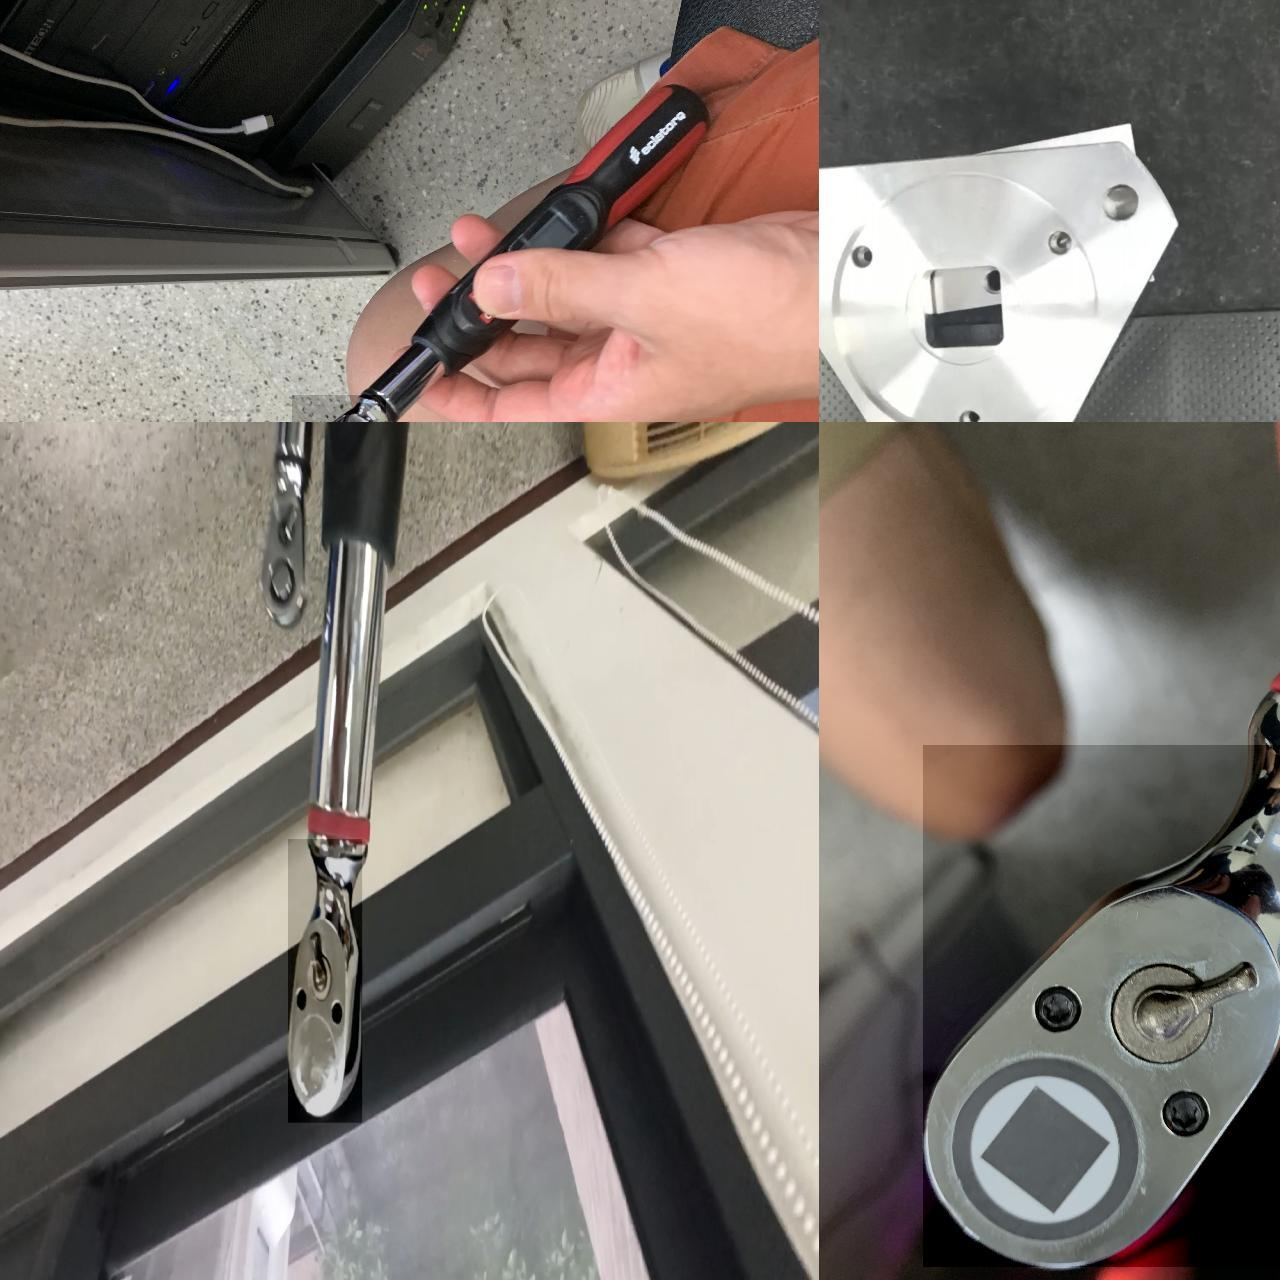Tool: (923, 745, 1280, 1267), (288, 839, 362, 1123), (263, 476, 305, 628), (292, 395, 386, 422)
